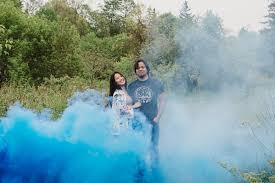smoke: (0, 91, 244, 183), (167, 6, 274, 169)
